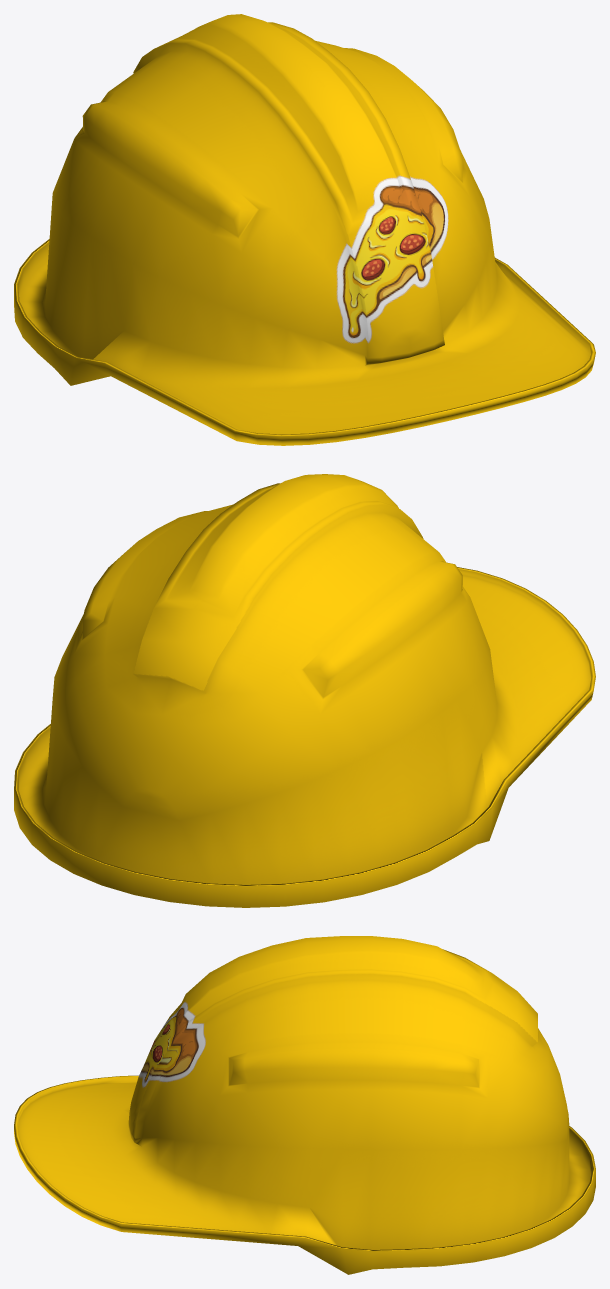
File: hat.glb
3 views of the same model, one above another, from view 1: azimuth 30°, elevation 25°; view 2: azimuth 150°, elevation 25°; view 3: azimuth 270°, elevation 25° (orthographic). The views are drawn at different scales.
Visible parts, largest first — view 1: Helmet_lambert1_0; view 2: Helmet_lambert1_0; view 3: Helmet_lambert1_0.
Boxes of the visible parts, x1=… form: Helmet_lambert1_0: x1=14, y1=14, x2=595, y2=445; Helmet_lambert1_0: x1=14, y1=474, x2=595, y2=907; Helmet_lambert1_0: x1=14, y1=936, x2=595, y2=1274.
Bounding box in the file's own units: 2.23 × 1.48 × 3.15.
Materials: 1 (1 with a texture image).
